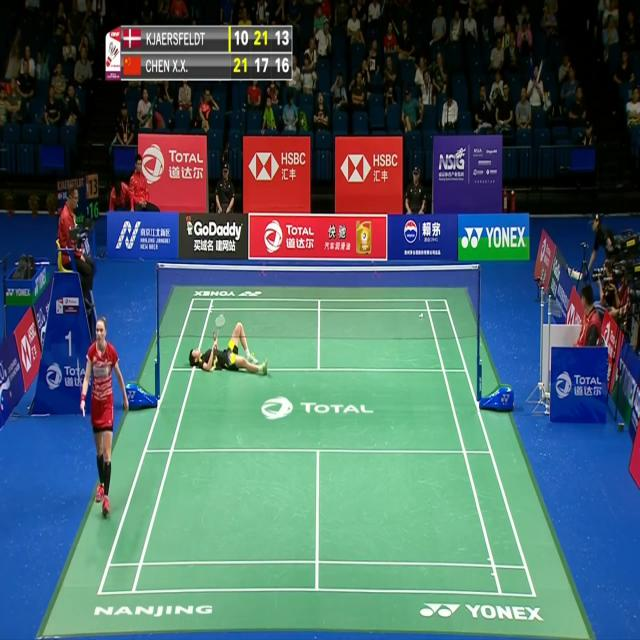Player1: (77, 307, 135, 524)
Player2: (187, 311, 277, 381)
